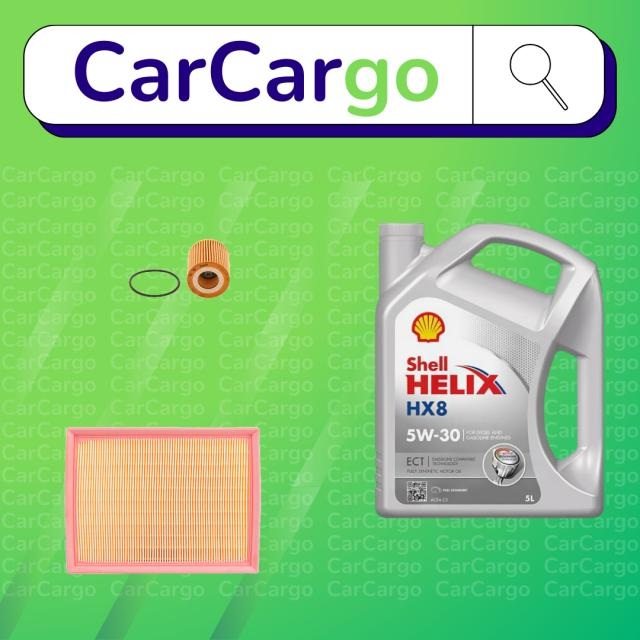air_filter: (59, 418, 264, 578)
motor_oil: (371, 213, 610, 522)
oil_filter: (126, 232, 241, 305)
